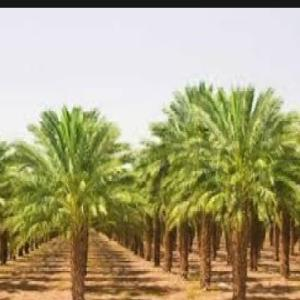palm tree: (157, 81, 299, 299), (9, 103, 142, 299)
